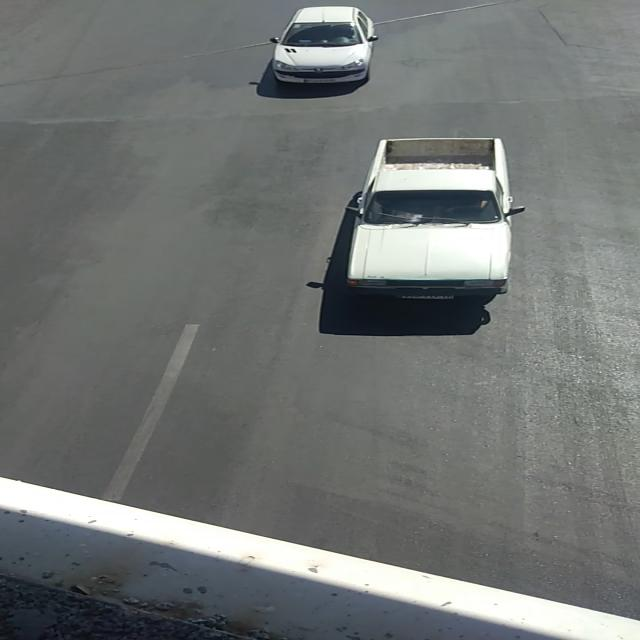car: (348, 137, 524, 300), (267, 7, 376, 91)
